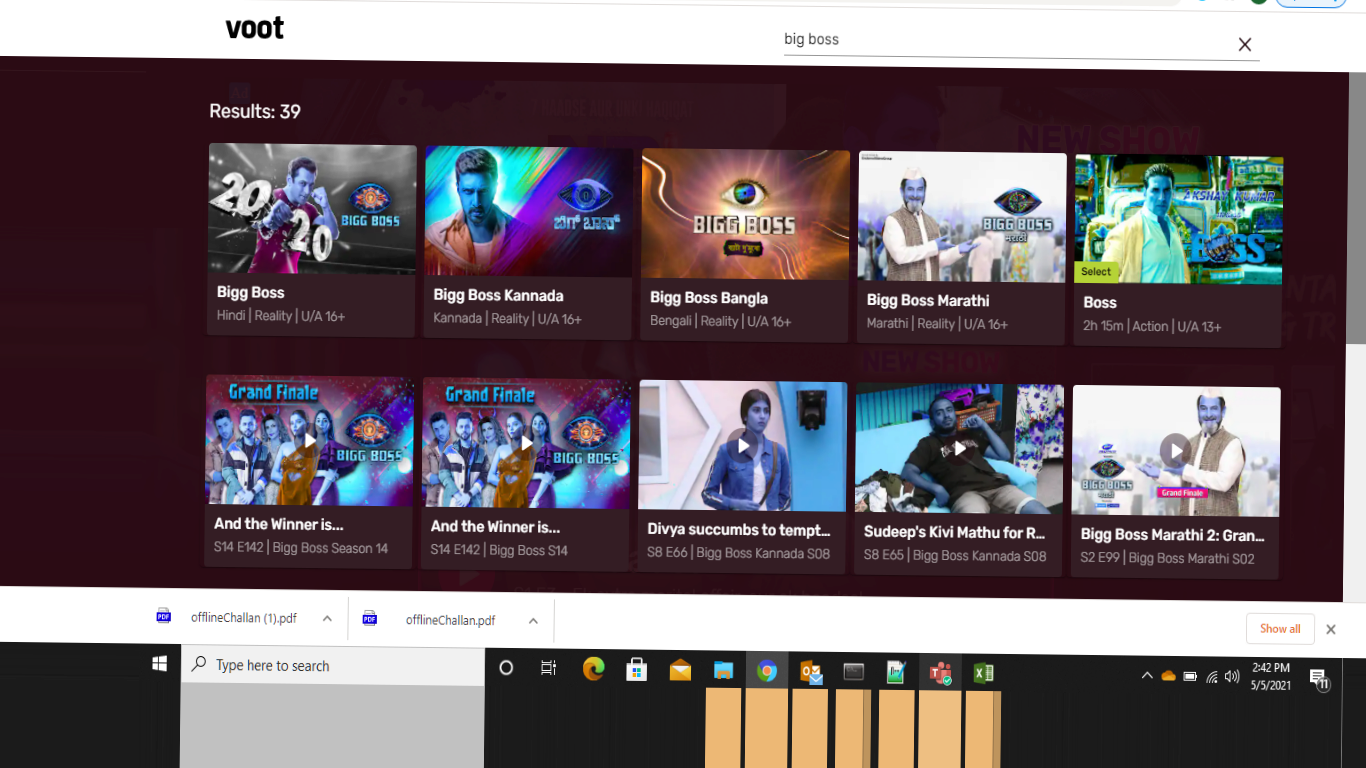resultsfound: (201, 89, 353, 138)
searchtextbox: (771, 5, 1281, 79)
